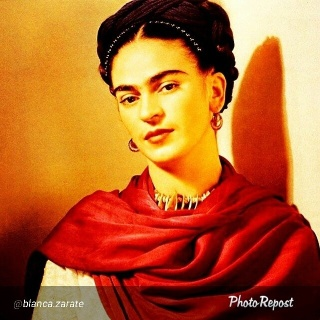without_mask: (110, 38, 211, 161)
